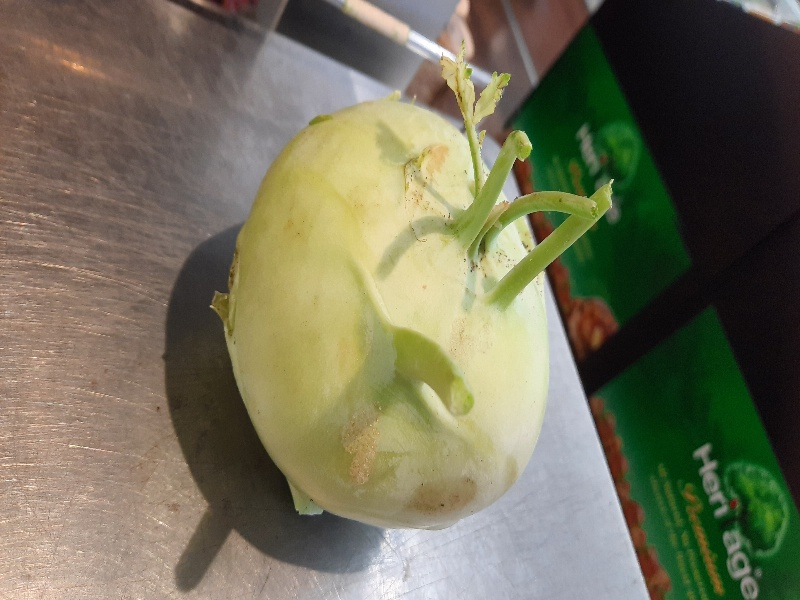vege: (190, 53, 611, 548)
